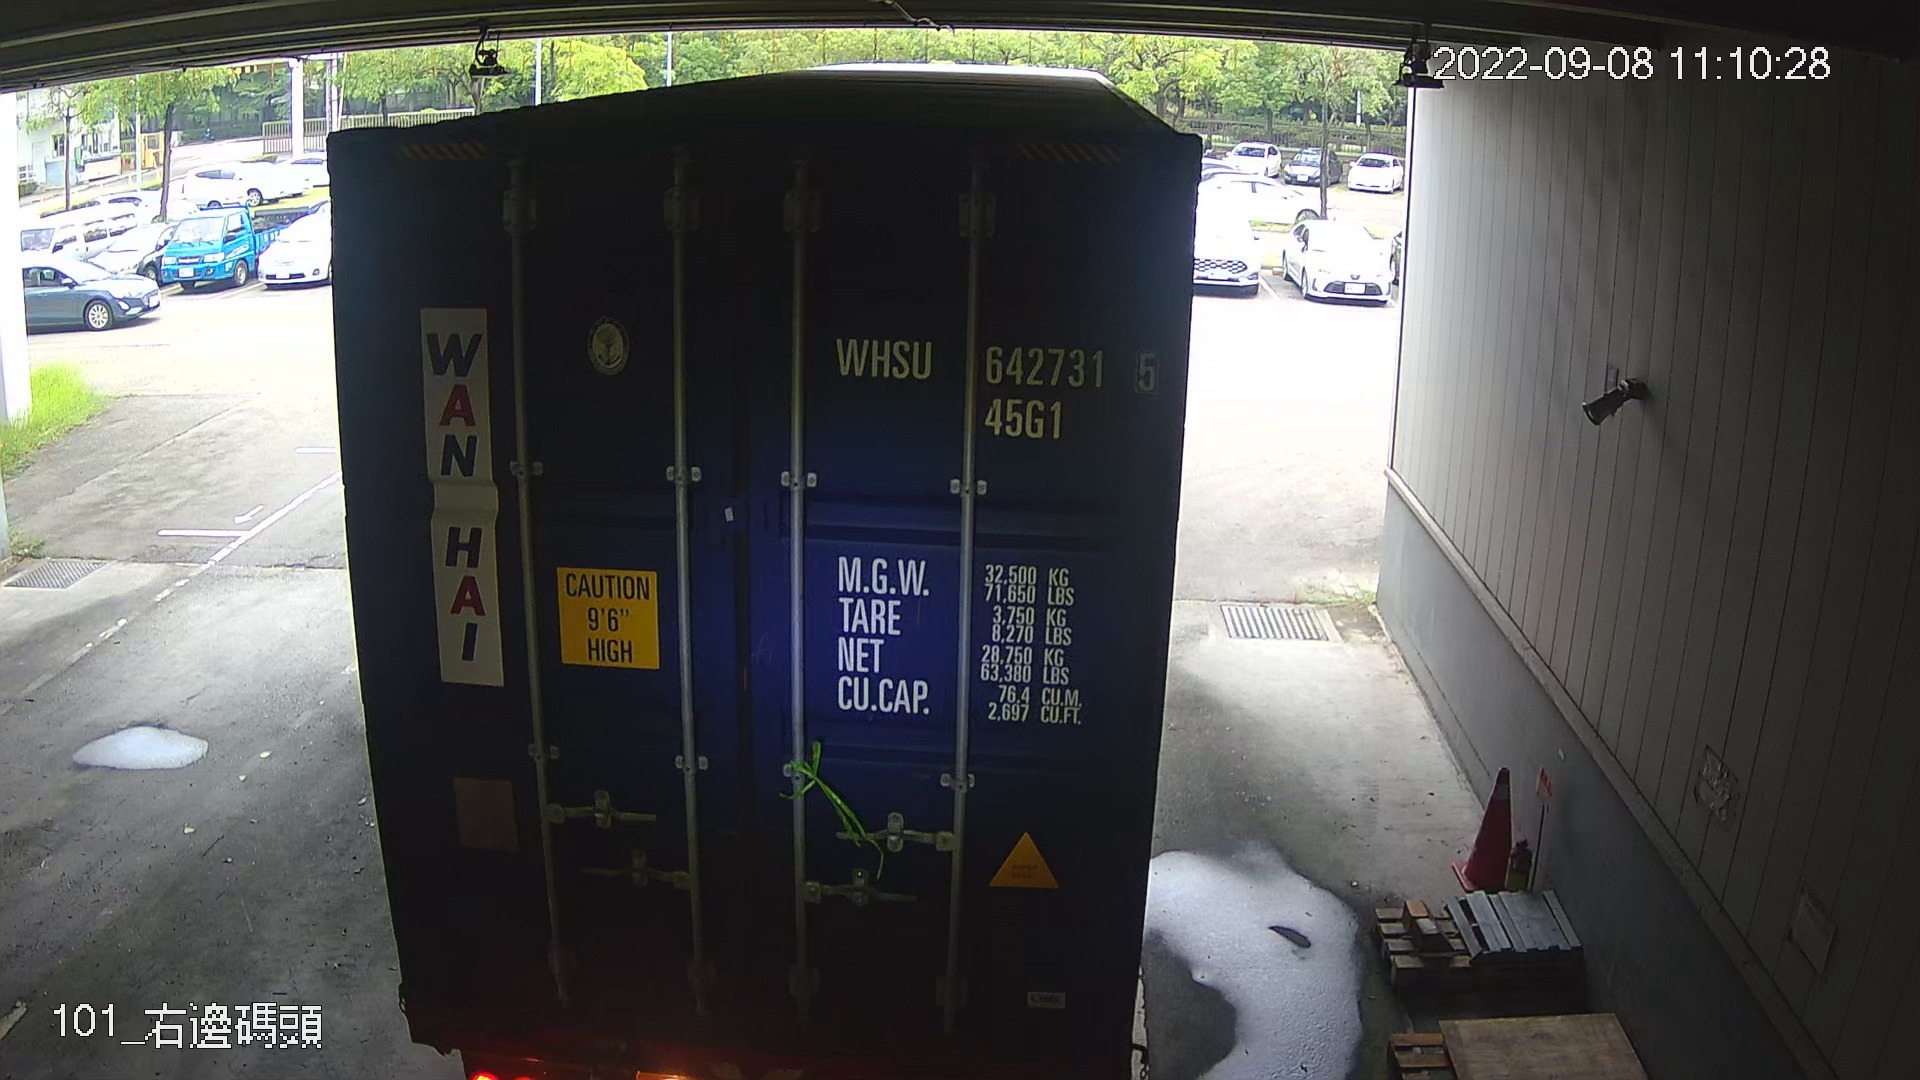container: (820, 316, 1168, 451)
